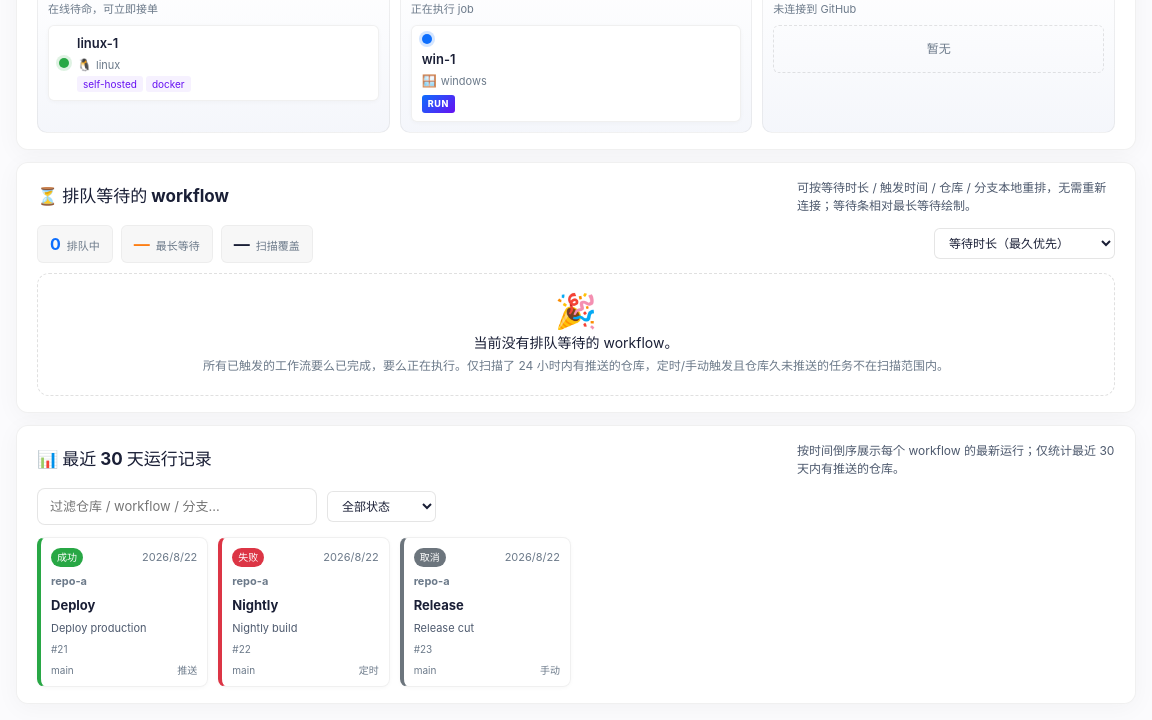
Scenario: RunnerBoard › 状态筛选下拉：默认展示全部，可按失败/取消单独筛选
(page scrolled)
Check: the text "Deploy production" is shown, box [51,621,147,635]
Check: the text "Nightly build" is shown, box [232,621,297,635]
// 筛选「失败」：只保留失败记录
Select "失败" in the dropdown named "筛选最近运行状态" at (382,506), box [327,491,436,522]
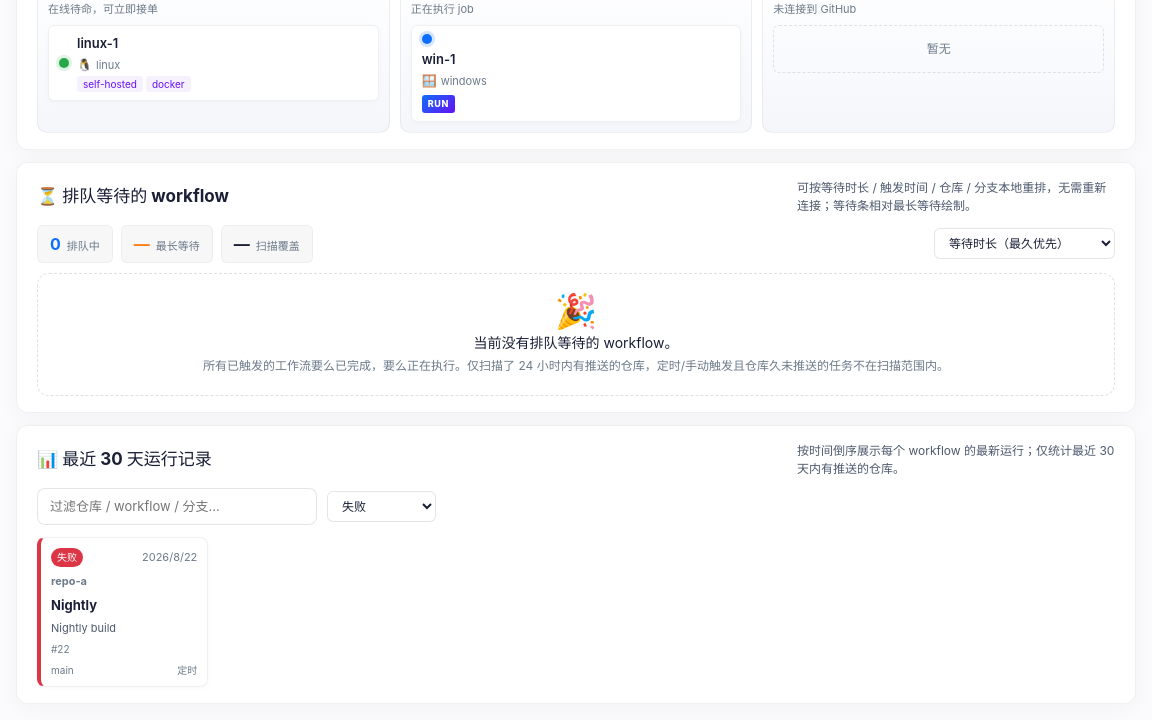
Check: the text "Nightly build" is shown, box [51,621,116,635]
Check: the link "Deploy production" is gone
Check: the link "Release cut" is gone
// 筛选「取消」：取消与失败互不影响
Select "取消" in the dropdown named "筛选最近运行状态" at (382,506), box [327,491,436,522]
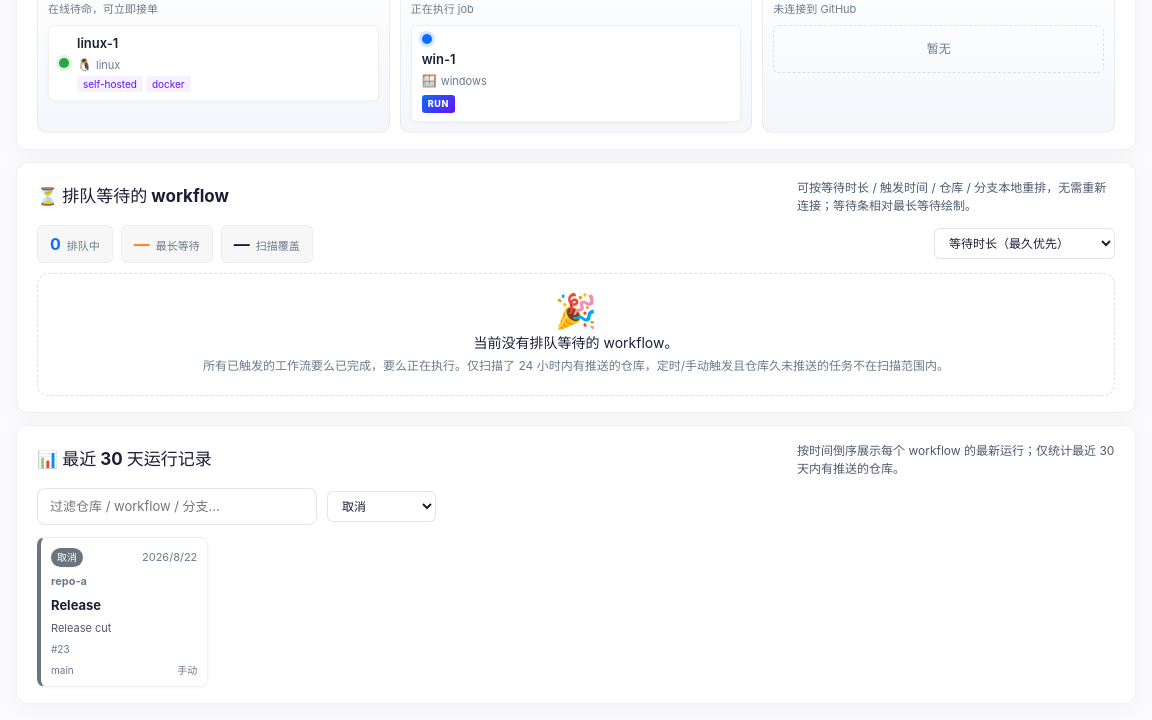
Check: the link "Nightly build" is gone
Check: the text "Release cut" is shown, box [51,621,111,635]
